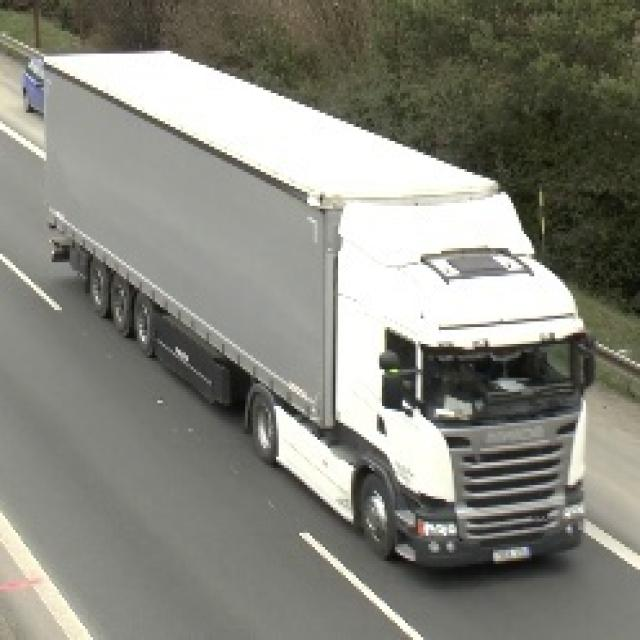TRUCK: (34, 45, 601, 578)
